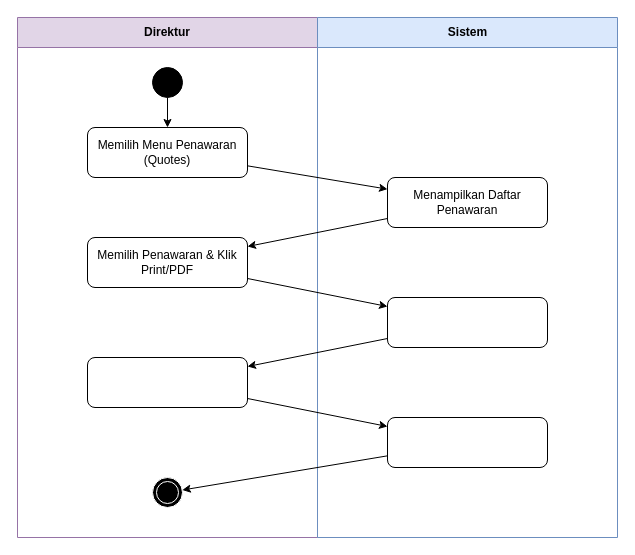
Some shapes in this 635 by 555 pixel diagram are drawn without their labels. Here are the shapes that lost their labels. From the top down, the centre of each, then its label:
(467,322): Generate PDF dengan Tanda Tangan
(167,382): Menunggu Proses Unduhan
(467,442): Menyajikan File PDF untuk Diunduh
